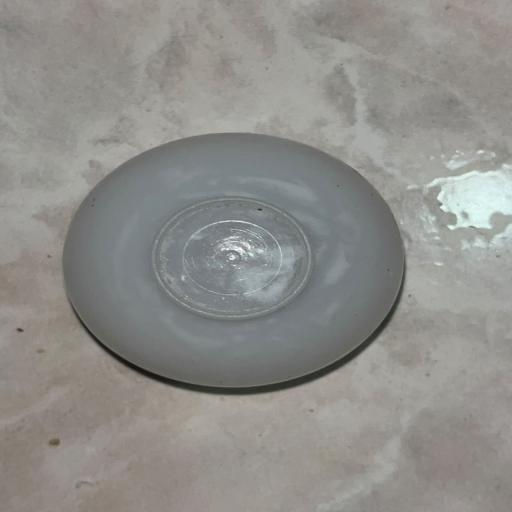PET: (23, 103, 462, 414)
